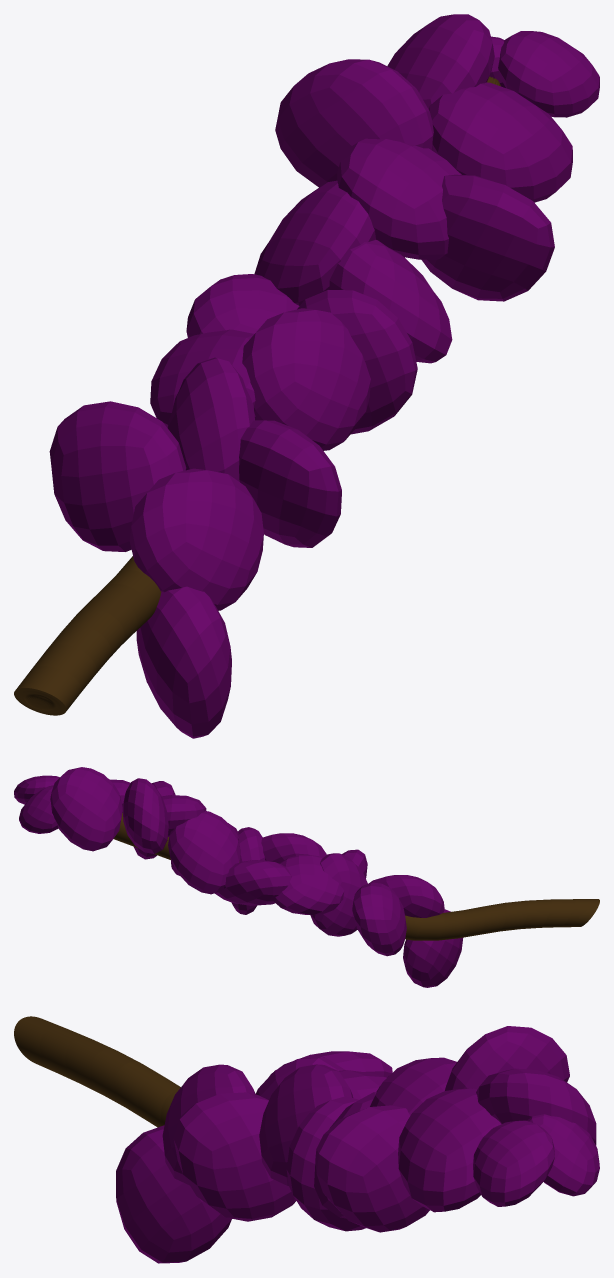
File: Gemstone.gltf
3 renders of one model, top to bottom at view 1: azimuth 30°, elevation 25°; view 2: azimuth 150°, elevation 25°; view 3: azimuth 270°, elevation 25°, orthographic. The views are drawn at different scales.
Visible parts, largest first — view 1: Cylinder.001; view 2: Cylinder.001; view 3: Cylinder.001.
Boxes of the visible parts, bbox=[...] form: Cylinder.001: bbox=[14, 14, 599, 738]; Cylinder.001: bbox=[14, 767, 599, 987]; Cylinder.001: bbox=[14, 1016, 599, 1263].
Bounding box in the file's own units: 2.16 × 1.1 × 1.48.
